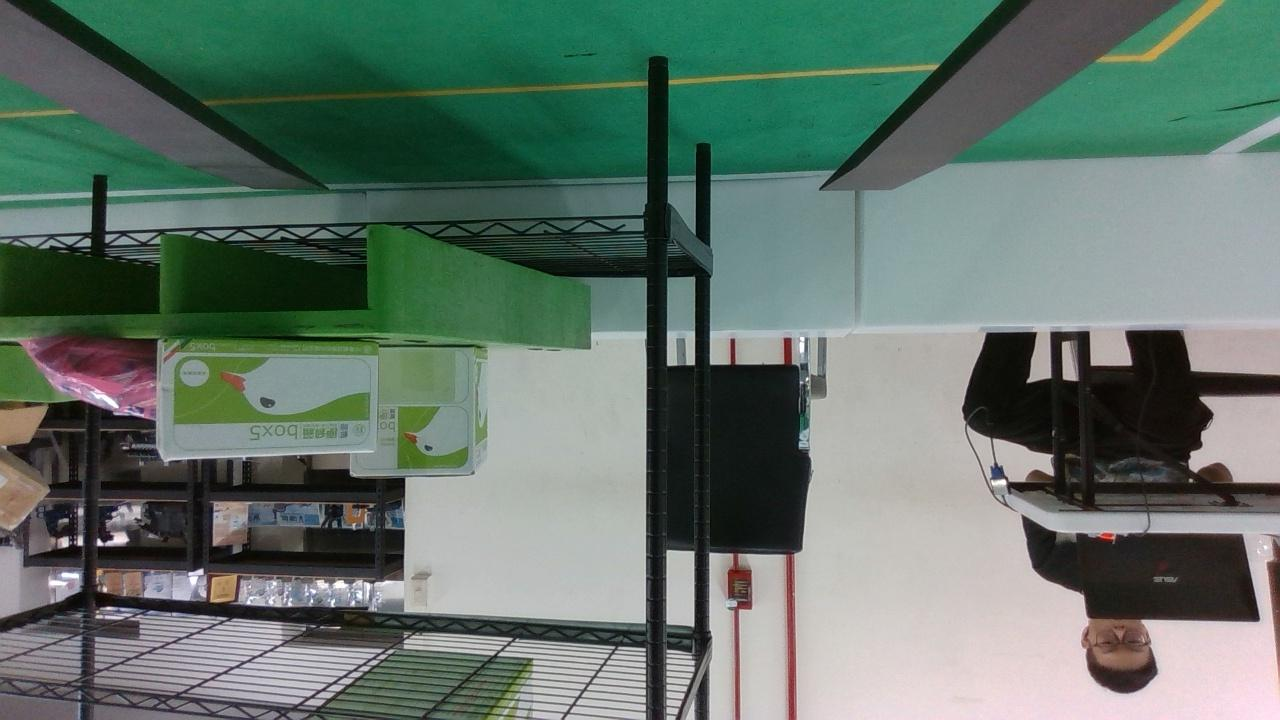Pallet: (0, 224, 400, 339)
